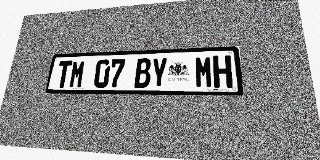0: (93, 59, 111, 88)
7: (108, 59, 126, 88)
B: (134, 58, 151, 88)
H: (213, 55, 233, 88)
M: (195, 56, 213, 88), (69, 60, 86, 88)
T: (55, 61, 73, 88)
Y: (151, 57, 168, 88)
